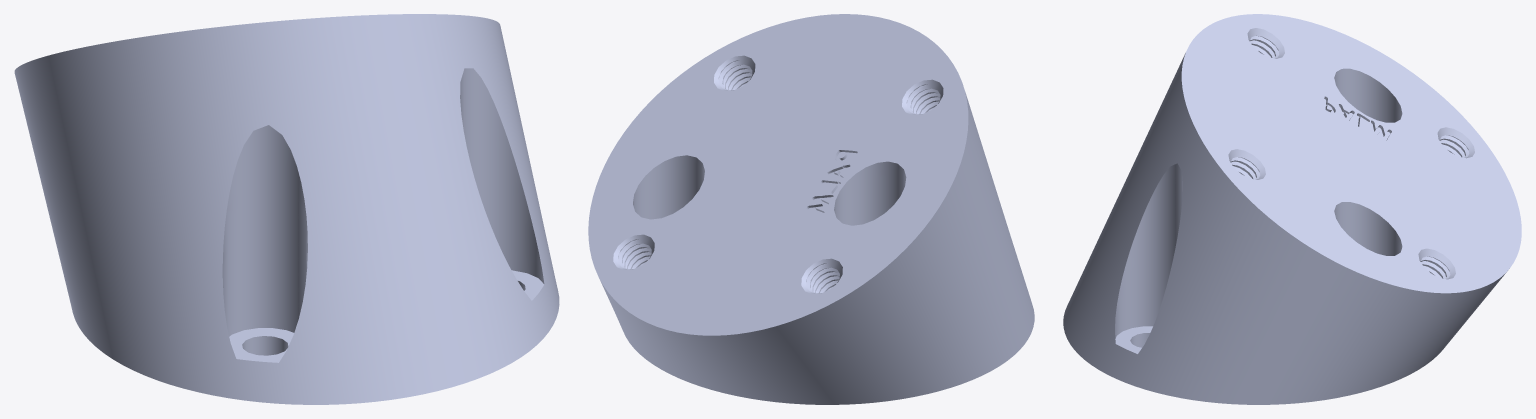
Rendered from Wuji_AngledMounted_30_10_Right.glb.
The picture shows the model from 3 angles, left to right: view 1: azimuth 30°, elevation 25°; view 2: azimuth 150°, elevation 25°; view 3: azimuth 270°, elevation 25°; orthographic projection. The views are drawn at different scales.
Visible parts, largest first — view 1: sw2urdf_efce69b1-1fb6-465a-af7a-2013262eae0f; view 2: sw2urdf_efce69b1-1fb6-465a-af7a-2013262eae0f; view 3: sw2urdf_efce69b1-1fb6-465a-af7a-2013262eae0f.
Part boxes in pixels (x1,y1,x2,y2): sw2urdf_efce69b1-1fb6-465a-af7a-2013262eae0f: (14,14,559,404); sw2urdf_efce69b1-1fb6-465a-af7a-2013262eae0f: (588,14,1034,404); sw2urdf_efce69b1-1fb6-465a-af7a-2013262eae0f: (1063,14,1521,404).
Size of the model in its own units: 0.063 by 0.0464 by 0.0739.
